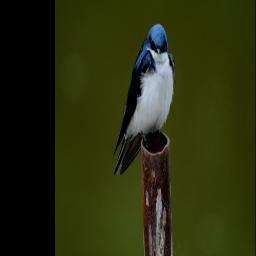Swallow: (112, 22, 176, 177)
